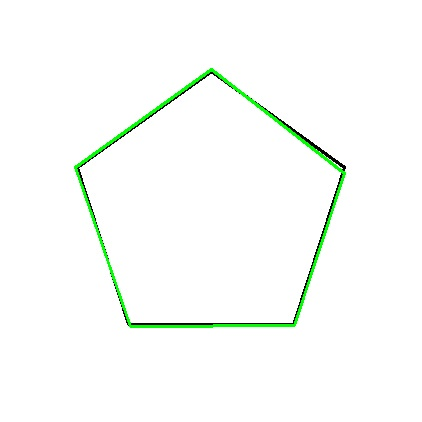line_segment: (75, 69, 346, 327)
